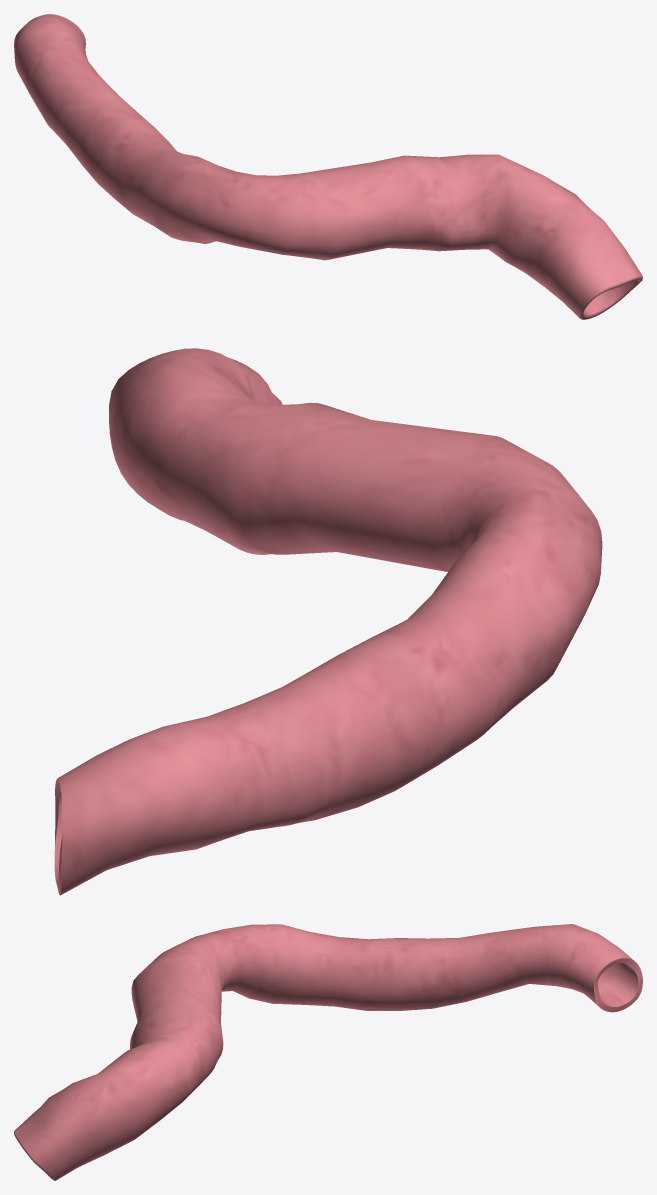
The model's file is Large_Intestine.glb.
3 views of the same model, one above another, from view 1: azimuth 30°, elevation 25°; view 2: azimuth 150°, elevation 25°; view 3: azimuth 270°, elevation 25° (orthographic). The views are drawn at different scales.
Parts seen in each view (by area): view 1: LargeIntestine; view 2: LargeIntestine; view 3: LargeIntestine.
Part boxes in pixels (left/top/right/bottom): LargeIntestine: left=14, top=14, right=642, bottom=319; LargeIntestine: left=54, top=348, right=602, bottom=895; LargeIntestine: left=14, top=924, right=642, bottom=1180.
Bounding box in the file's own units: 71.69 × 28.06 × 120.
1 material, 1 textured.
